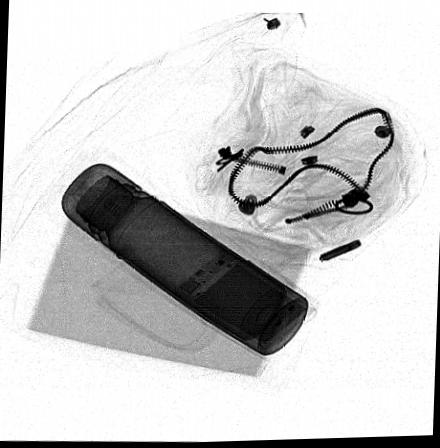Powerbank: (171, 247, 313, 351)
